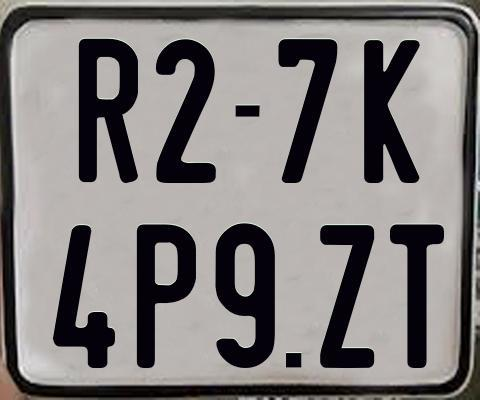2: (153, 37, 216, 182)
4: (52, 222, 120, 366)
7: (275, 37, 335, 187)
9: (214, 223, 279, 368)
K: (362, 38, 422, 186)
P: (136, 224, 196, 368)
R: (78, 37, 142, 182)
T: (387, 224, 444, 369)
Z: (320, 224, 379, 373)
